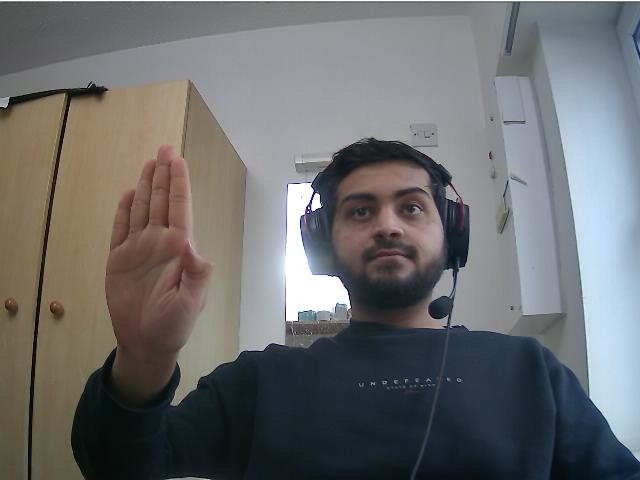up: (102, 143, 215, 355)
